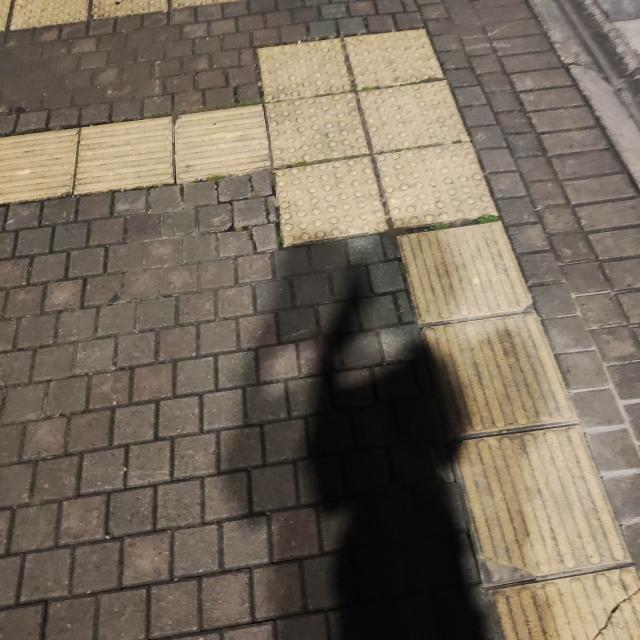kiri: (103, 35, 545, 291)
